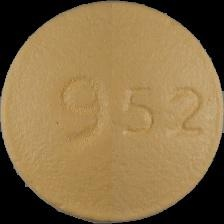35356-325: (0, 0, 224, 224)
